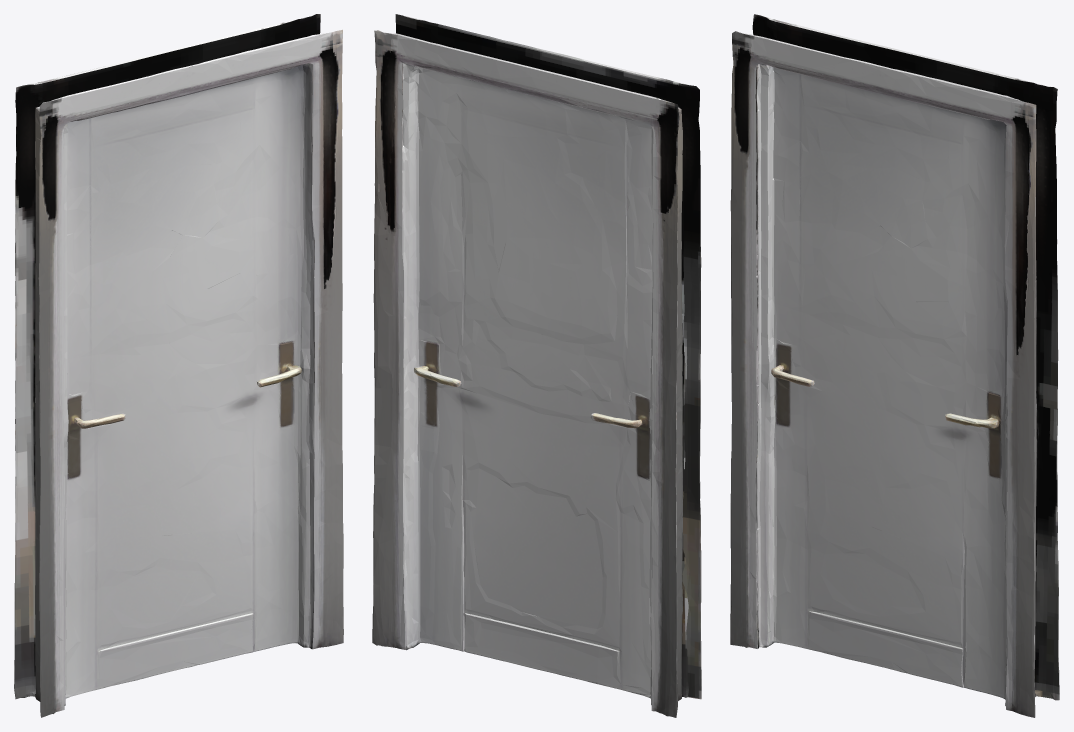
3 views of the same model, side by side, from view 1: azimuth 30°, elevation 25°; view 2: azimuth 150°, elevation 25°; view 3: azimuth 330°, elevation 25° (orthographic).
Visible parts, largest first — view 1: world; view 2: world; view 3: world.
Boxes of the visible parts, box(x1,y1,x2,y2) form: world: box(14, 14, 343, 717); world: box(372, 14, 701, 717); world: box(730, 14, 1059, 717).
Bounding box in the file's own units: 0.5225 × 1 × 0.0877.
1 material, 1 textured.
